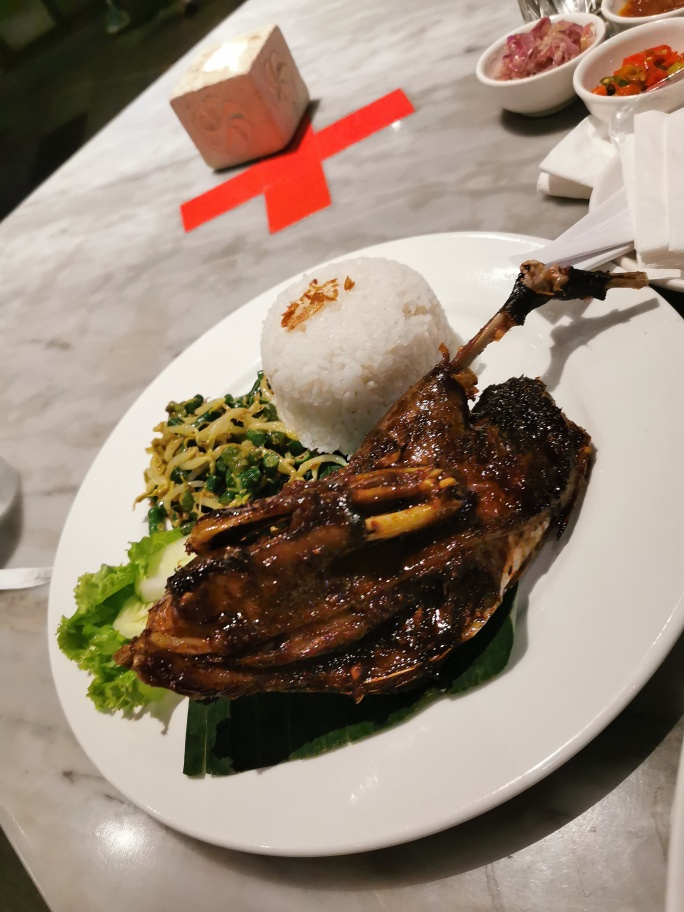bebek bakar: (111, 257, 654, 698)
nasi putih: (254, 239, 457, 437)
